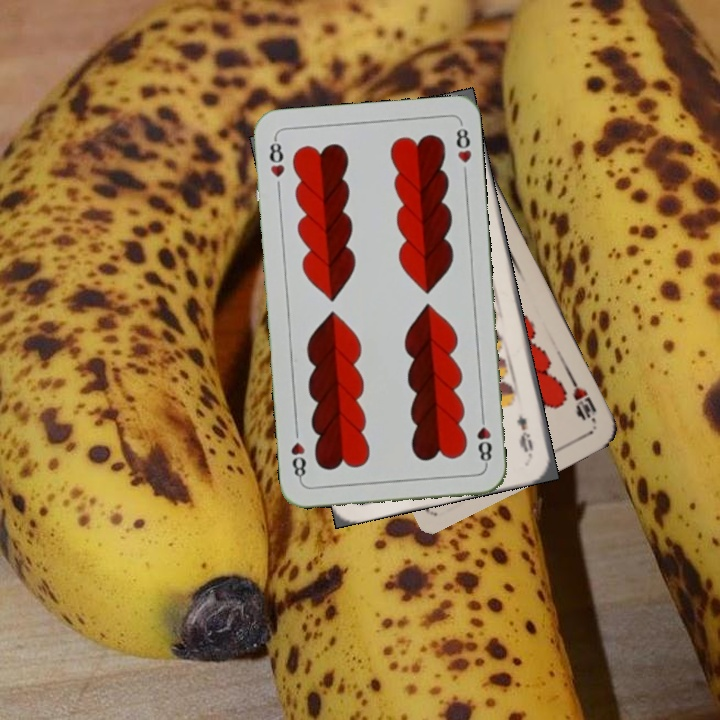E9: (512, 412, 536, 458)
H10: (566, 373, 599, 426)
H8: (473, 409, 494, 468), (265, 134, 288, 180)
